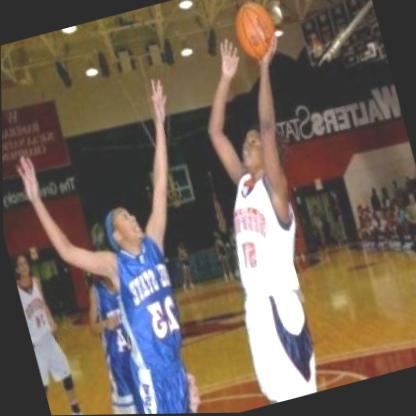basketball: (223, 0, 285, 68)
